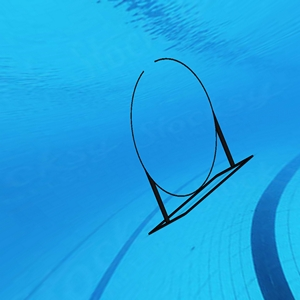circle: (123, 54, 256, 239)
